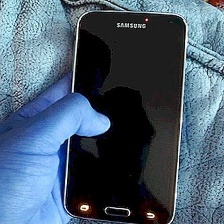phone: (60, 6, 194, 224)
